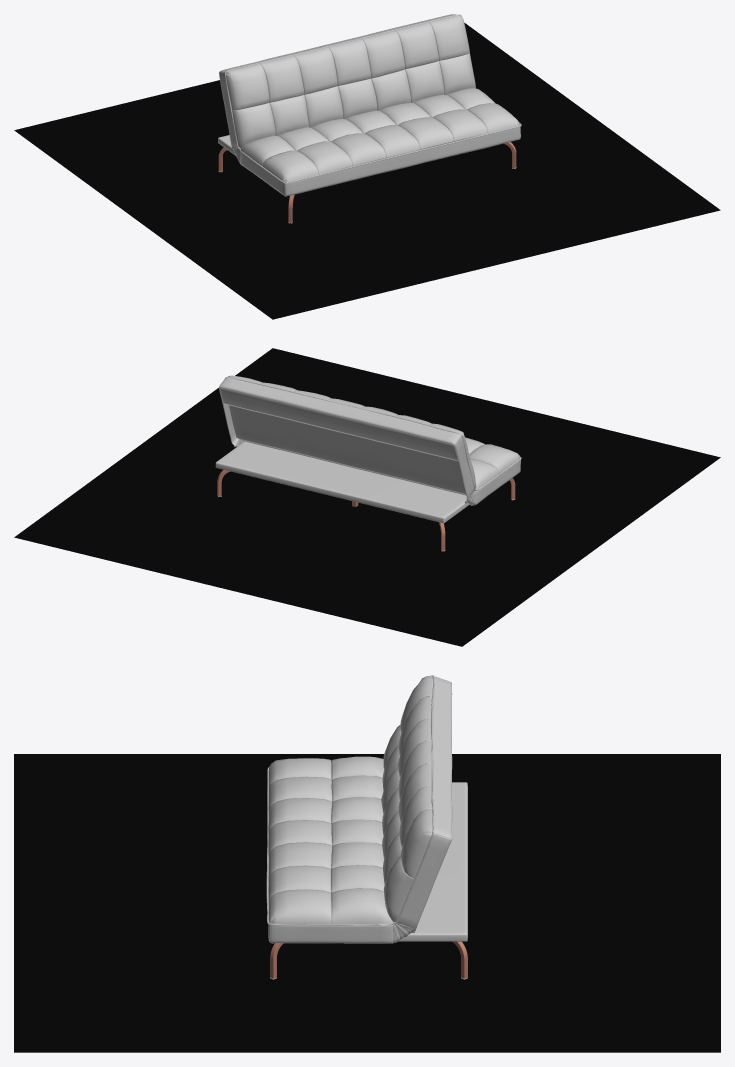
The picture shows the model from 3 angles, top to bottom: view 1: azimuth 30°, elevation 25°; view 2: azimuth 150°, elevation 25°; view 3: azimuth 270°, elevation 25°; orthographic projection. The views are drawn at different scales.
Visible parts, largest first — view 1: Plane001, FABRIC001; view 2: Plane001, FABRIC_BLACK001, FABRIC001; view 3: Plane001, FABRIC001, FABRIC_BLACK001.
Part boxes in pixels (<box>): Plane001: <box>14,23,720,319</box>; FABRIC001: <box>219,14,521,196</box>; Plane001: <box>14,348,720,646</box>; FABRIC_BLACK001: <box>215,388,474,523</box>; FABRIC001: <box>219,375,521,504</box>; Plane001: <box>14,754,720,1052</box>; FABRIC001: <box>266,675,452,943</box>; FABRIC_BLACK001: <box>395,782,467,942</box>.
Size of the model in its own units: 334 by 79.05 by 334.
